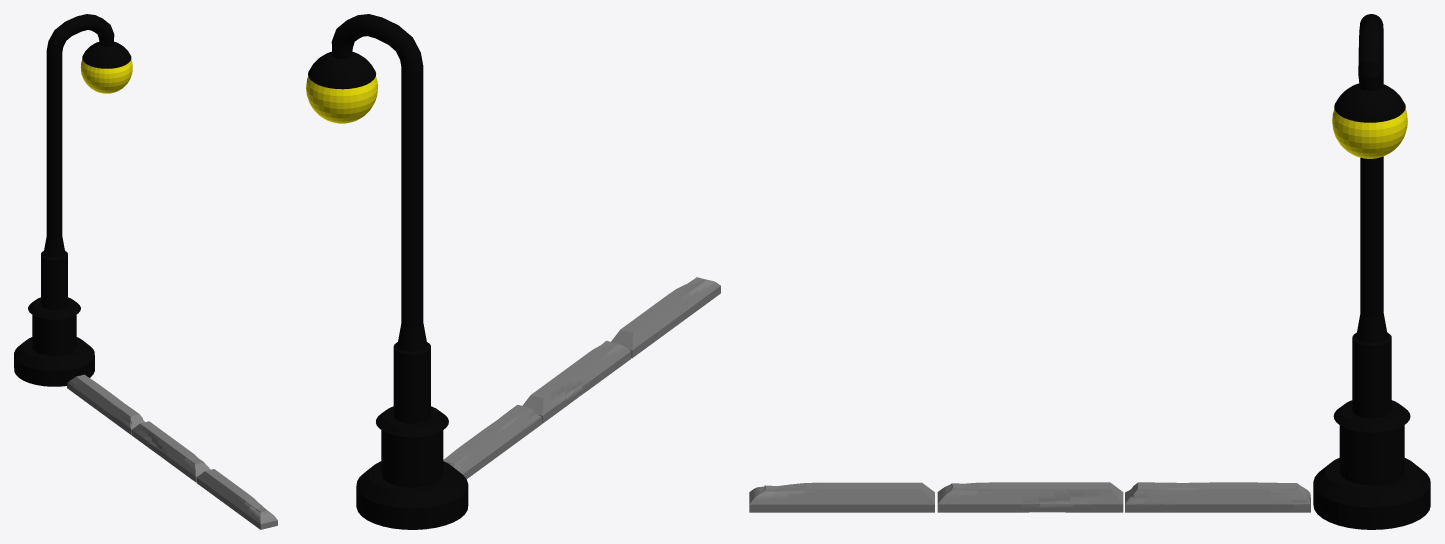
The model's file is Бурдюр.fbx.
The picture shows the model from 3 angles, left to right: view 1: azimuth 30°, elevation 25°; view 2: azimuth 150°, elevation 25°; view 3: azimuth 270°, elevation 25°; orthographic projection. The views are drawn at different scales.
Visible parts, largest first — view 1: Cylinder, Cube.001; view 2: Cylinder, Cube.001; view 3: Cylinder, Cube.001.
Part boxes in pixels (bbox=[...]): Cylinder: bbox=[14, 14, 132, 386]; Cube.001: bbox=[67, 374, 277, 529]; Cylinder: bbox=[306, 14, 468, 529]; Cube.001: bbox=[443, 277, 720, 478]; Cylinder: bbox=[1313, 14, 1430, 529]; Cube.001: bbox=[749, 482, 1310, 512].
Bounding box in the file's own units: 197 × 600 × 733.
